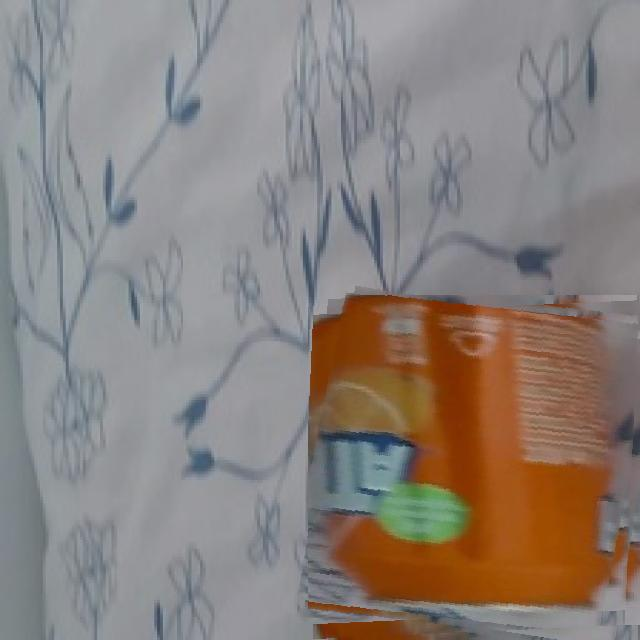recyclable: (308, 295, 640, 640)
